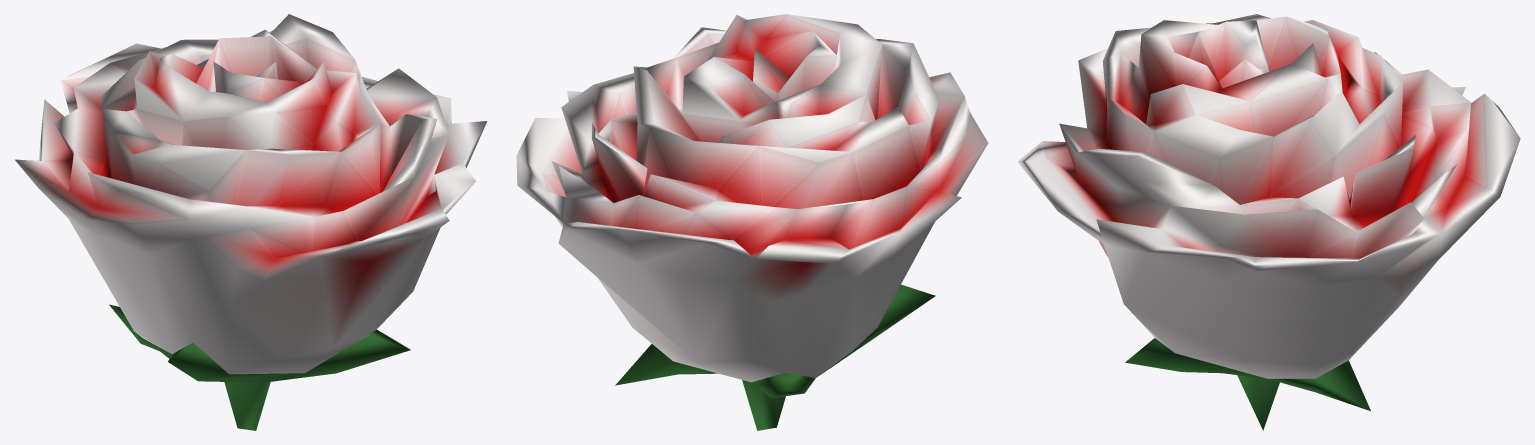
File: minirose2.fbx
3 views of the same model, side by side, from view 1: azimuth 30°, elevation 25°; view 2: azimuth 150°, elevation 25°; view 3: azimuth 270°, elevation 25° (orthographic).
Visible parts, largest first — view 1: minirose2; view 2: minirose2; view 3: minirose2.
Boxes of the visible parts, x1,y1,x2,y2 form: minirose2: [15, 14, 487, 430]; minirose2: [516, 14, 988, 430]; minirose2: [1017, 14, 1520, 430].
Bounding box in the file's own units: 0.7705 × 0.6687 × 0.7862.
